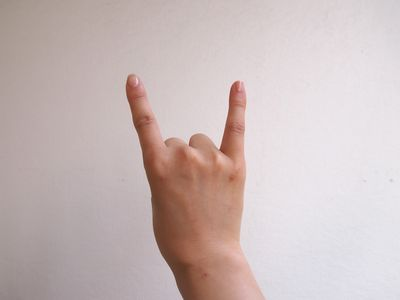hand: (124, 71, 246, 266)
